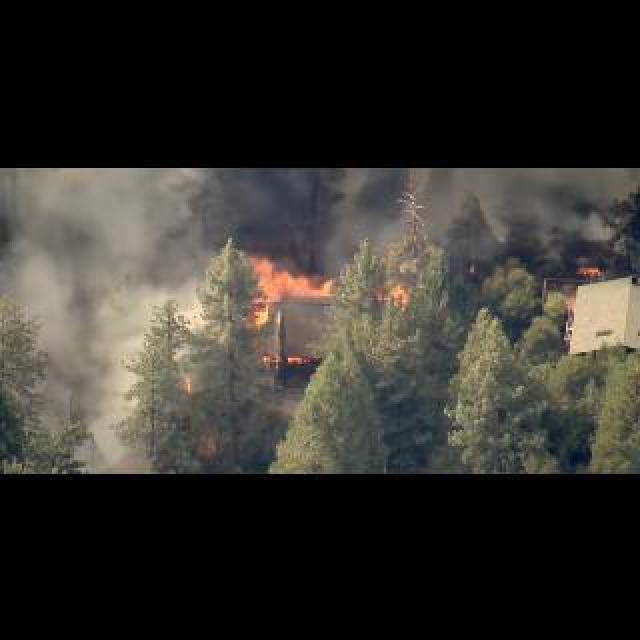Fire: (230, 250, 352, 370), (390, 282, 408, 312)
